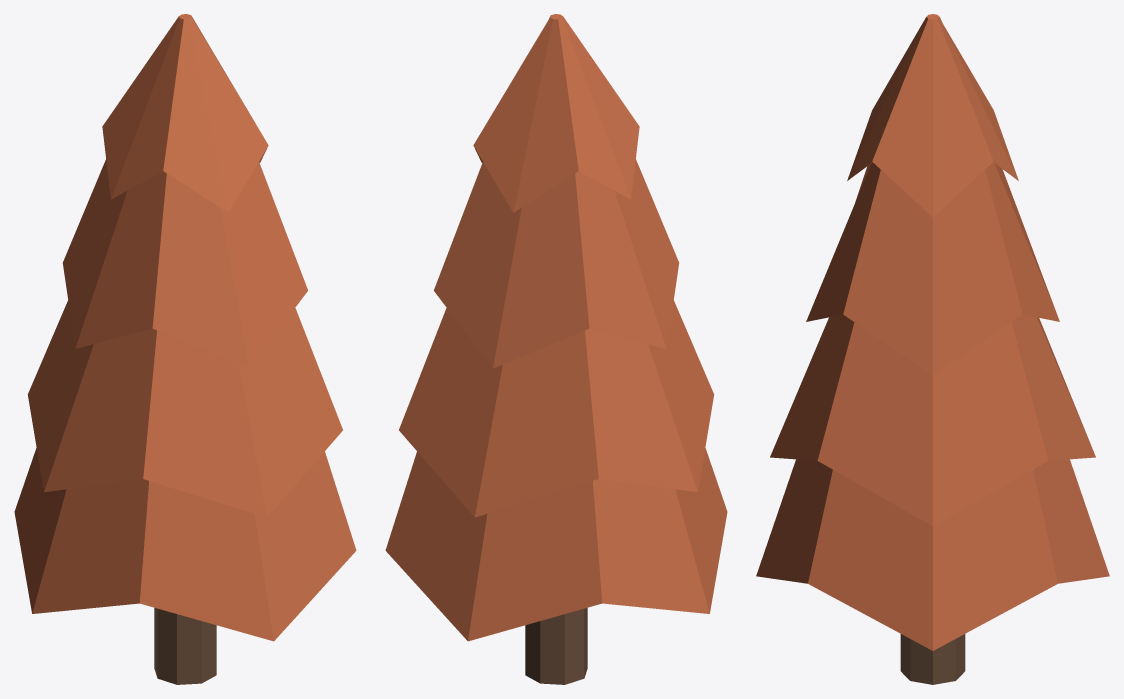
File: tree-fall.glb
3 views of the same model, side by side, from view 1: azimuth 30°, elevation 25°; view 2: azimuth 150°, elevation 25°; view 3: azimuth 270°, elevation 25° (orthographic).
Visible parts, largest first — view 1: Circle.008; view 2: Circle.008; view 3: Circle.008.
Part boxes in pixels (x1,y1,x2,y2): Circle.008: (14, 14, 356, 684); Circle.008: (385, 14, 727, 684); Circle.008: (756, 14, 1109, 684).
Size of the model in its own units: 4.99 by 10.19 by 4.99.
